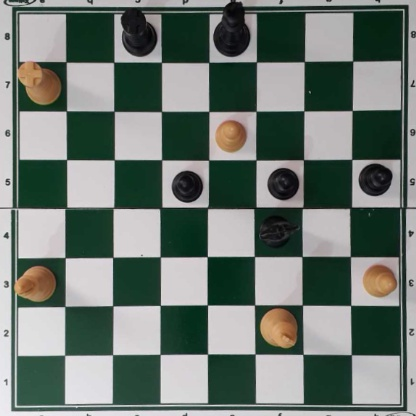black-king: (212, 1, 251, 58)
black-knight: (259, 213, 301, 249)
black-pawn: (357, 162, 392, 196), (169, 170, 204, 203), (267, 165, 299, 200)
black-rook: (118, 7, 159, 57)
white-bishop: (12, 265, 58, 303)
white-king: (260, 308, 299, 349)
white-pawn: (360, 263, 398, 298), (213, 117, 247, 153)
white-rook: (17, 62, 62, 105)
